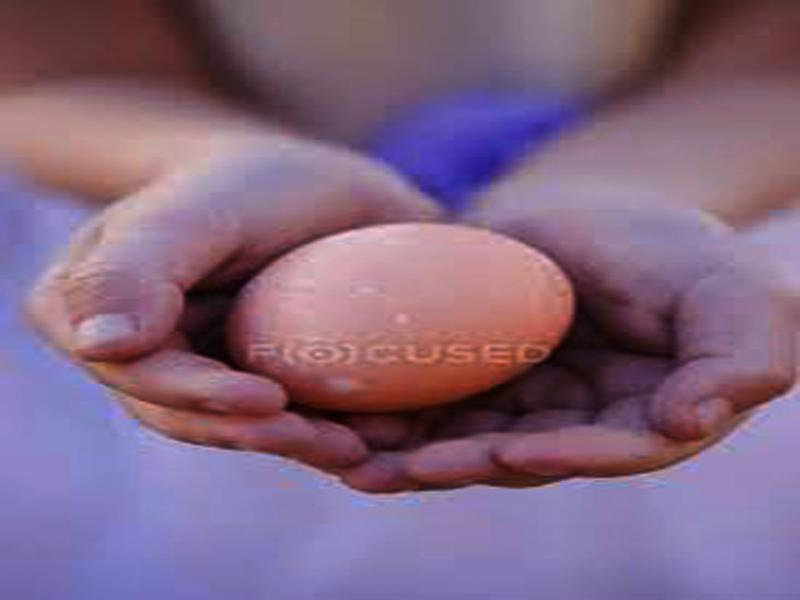Eggs: (227, 220, 581, 412)
